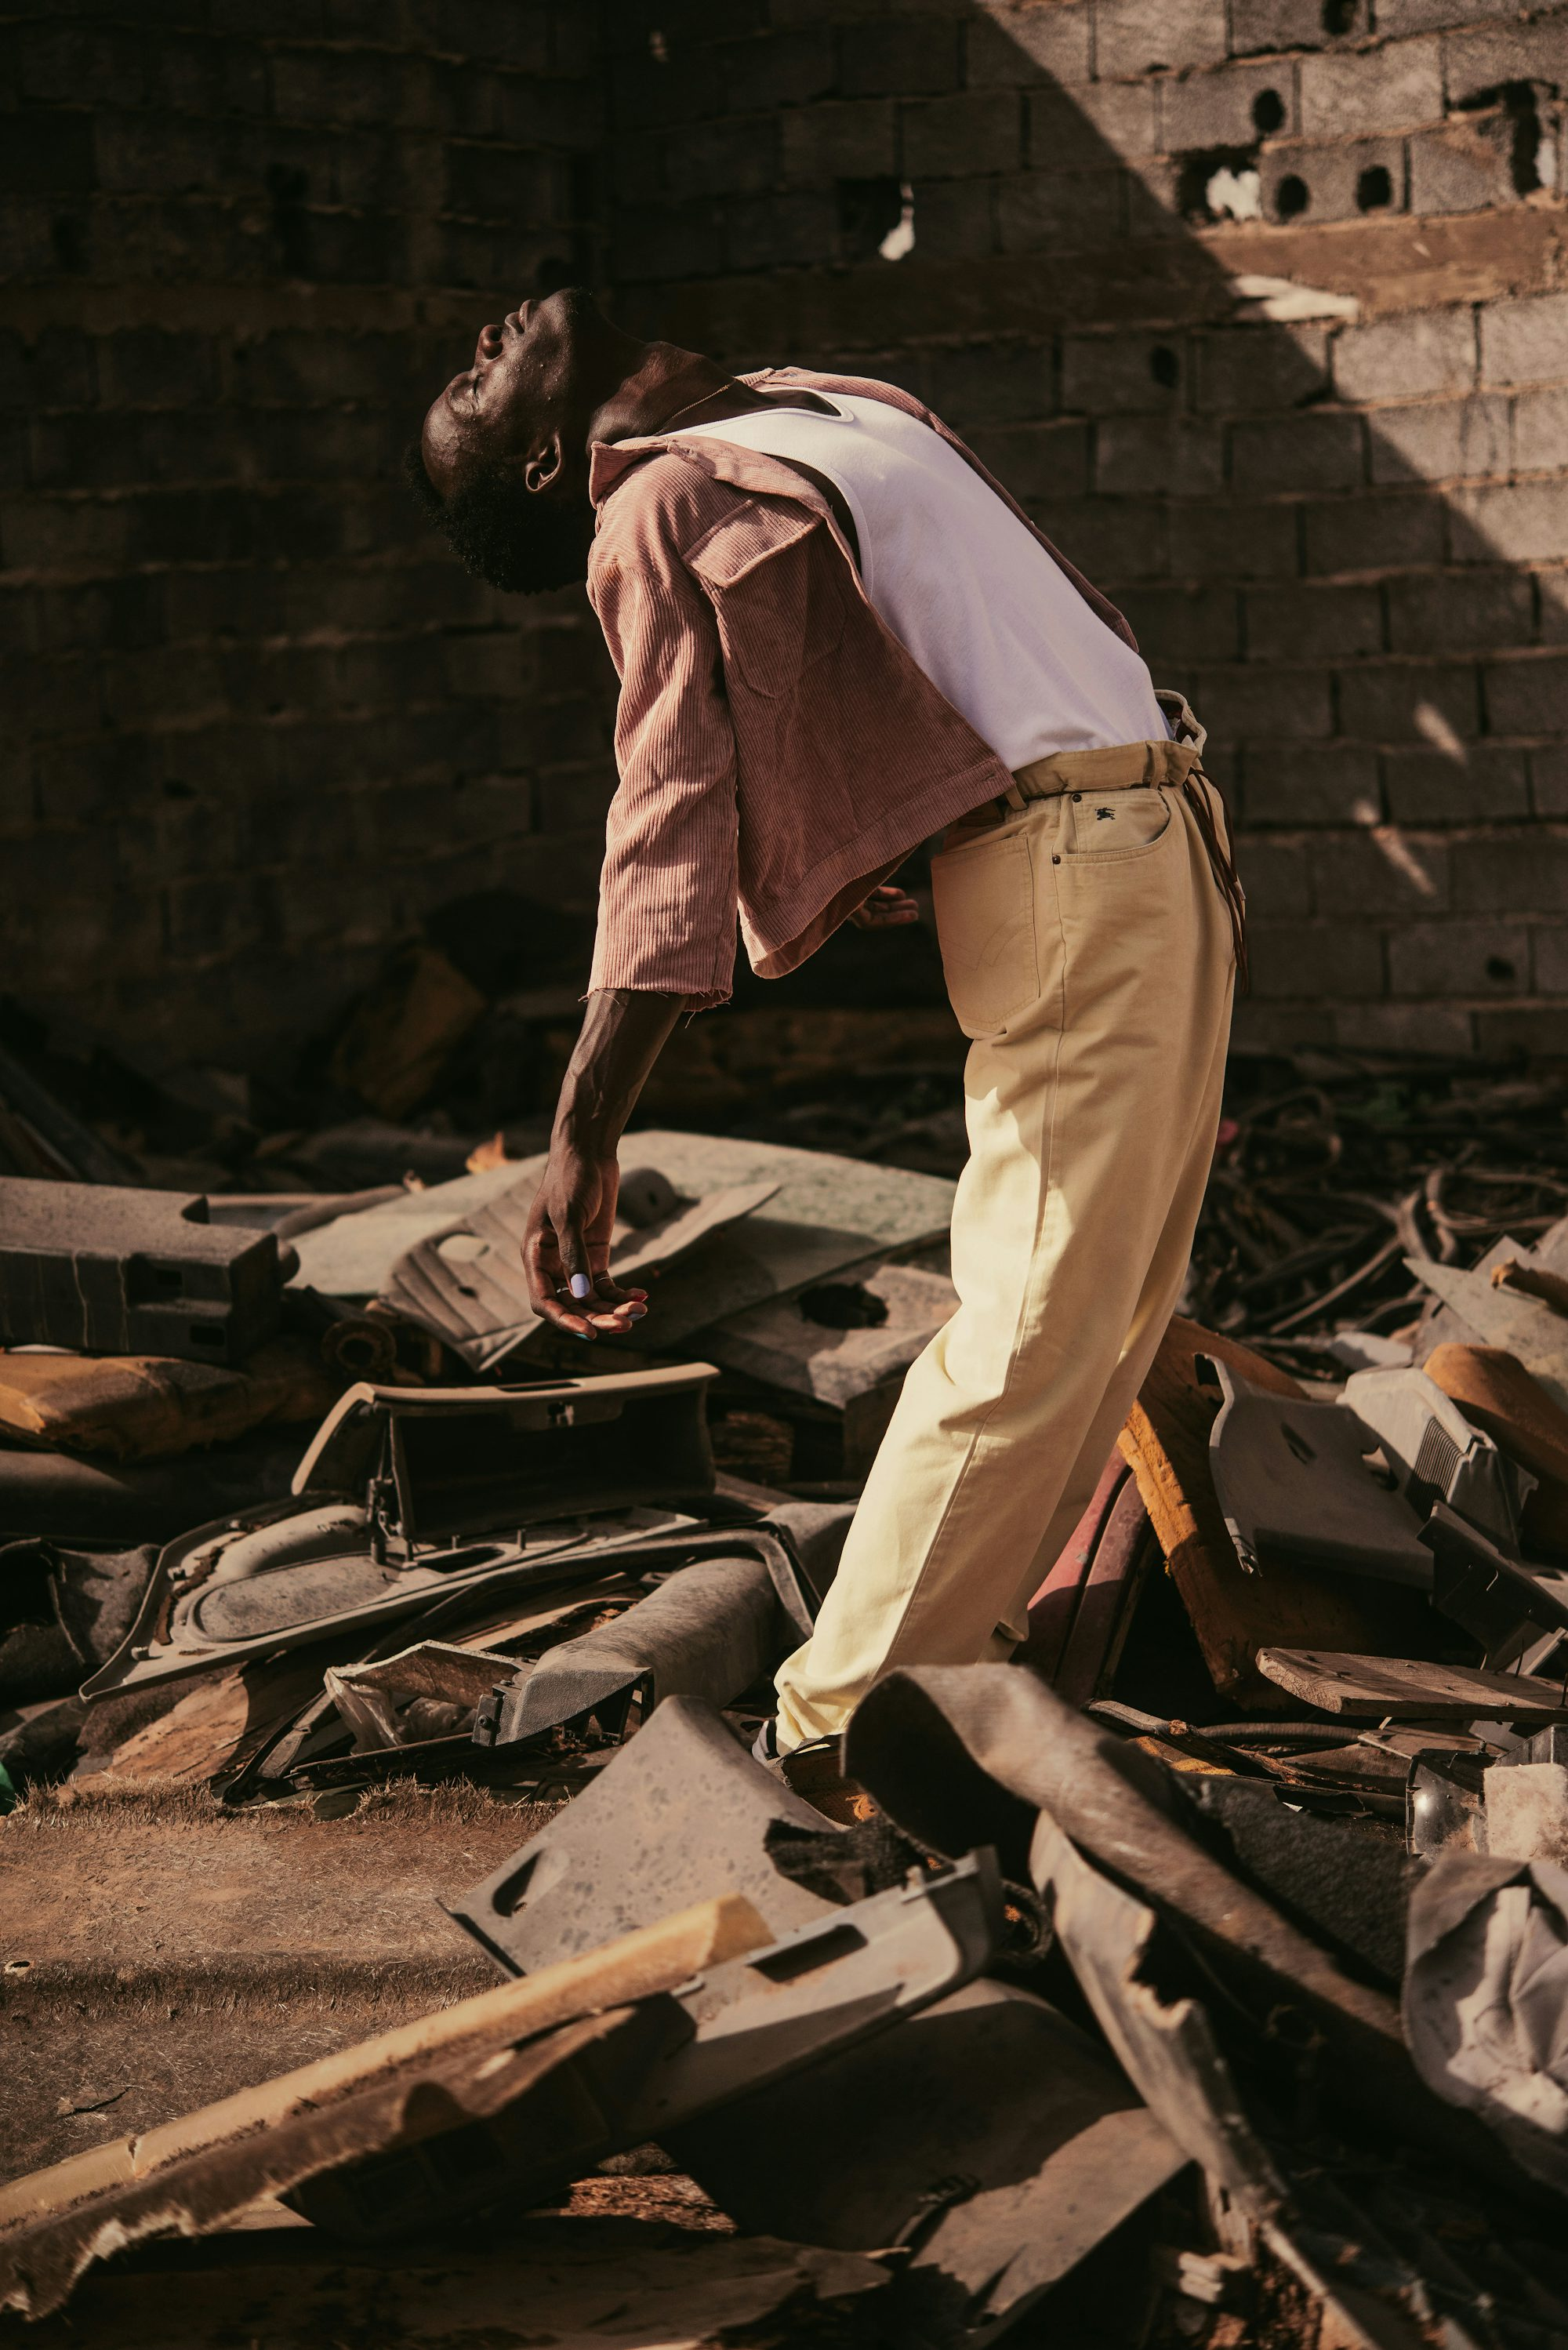person: (432, 242, 1240, 1912)
